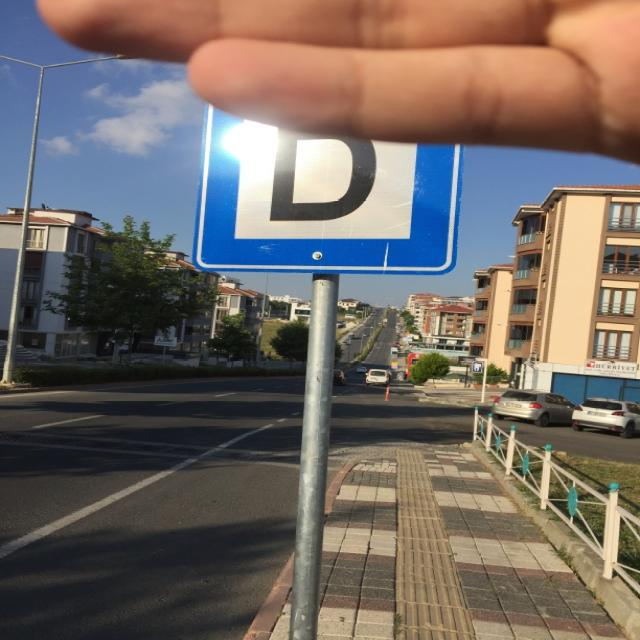durak: (195, 79, 466, 278)
